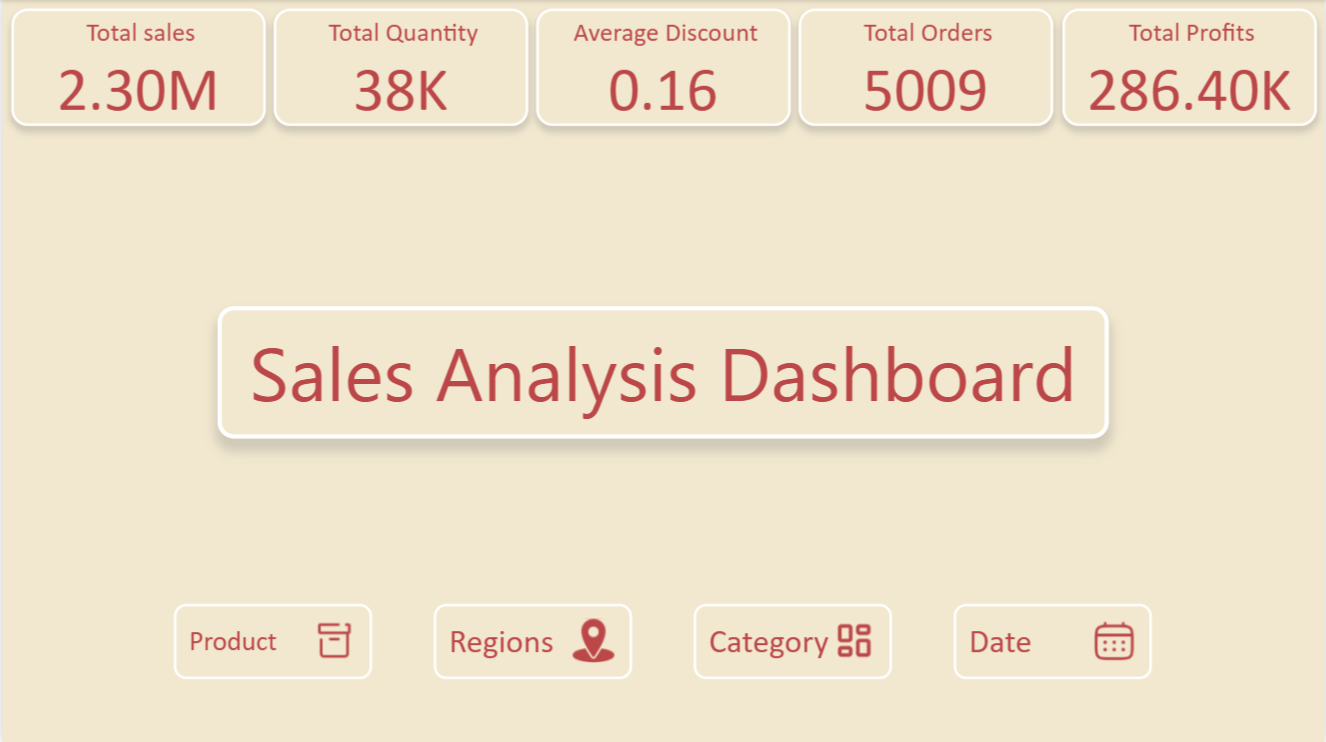

What the dashboard file says about the page in this screenshot:
{"tool":"powerbi","page":{"name":"Main","canvas":[1280,720],"ordinal":0},"visuals":[{"type":"card","title":"Total sales","fields":{"Values":["Daxmeasures.T_sales"]},"box":[8,8,246,113.9],"z":0},{"type":"card","title":"Total Quantity","fields":{"Values":["Daxmeasures.T_quantity"]},"box":[262.5,8,246,113.9],"z":1000},{"type":"card","title":"Average Discount","fields":{"Values":["Daxmeasures.Avg_discount"]},"box":[517,8,246,113.9],"z":2000},{"type":"card","title":"Total Profits","fields":{"Values":["Daxmeasures.T_profit"]},"box":[1026,8.2,246,113.9],"z":3000},{"type":"card","title":"Total Orders","fields":{"Values":["Daxmeasures.T_orders"]},"box":[771.5,8.2,246,113.9],"z":4000},{"type":"textbox","box":[208.4,296.2,863.1,127.6],"z":5000},{"type":"actionButton","box":[669.1,584.6,192.1,72.7],"z":6000},{"type":"actionButton","box":[417.6,584.6,192,72.7],"z":7000},{"type":"actionButton","box":[920.8,584.6,192.1,72.7],"z":8000},{"type":"actionButton","box":[166,584.6,192.1,72.7],"z":9000}]}

Visuals, with their boxes in screenshot pixels (x1, y1, x2, y2), scaled from the page's 1280x720 canvas onto the 1326x742 screenshot:
"Total sales" card: (left=8, top=8, right=263, bottom=126)
"Total Quantity" card: (left=272, top=8, right=527, bottom=126)
"Average Discount" card: (left=536, top=8, right=790, bottom=126)
"Total Profits" card: (left=1063, top=8, right=1318, bottom=126)
"Total Orders" card: (left=799, top=8, right=1054, bottom=126)
textbox: (left=216, top=305, right=1110, bottom=437)
actionButton: (left=693, top=602, right=892, bottom=677)
actionButton: (left=433, top=602, right=632, bottom=677)
actionButton: (left=954, top=602, right=1153, bottom=677)
actionButton: (left=172, top=602, right=371, bottom=677)
